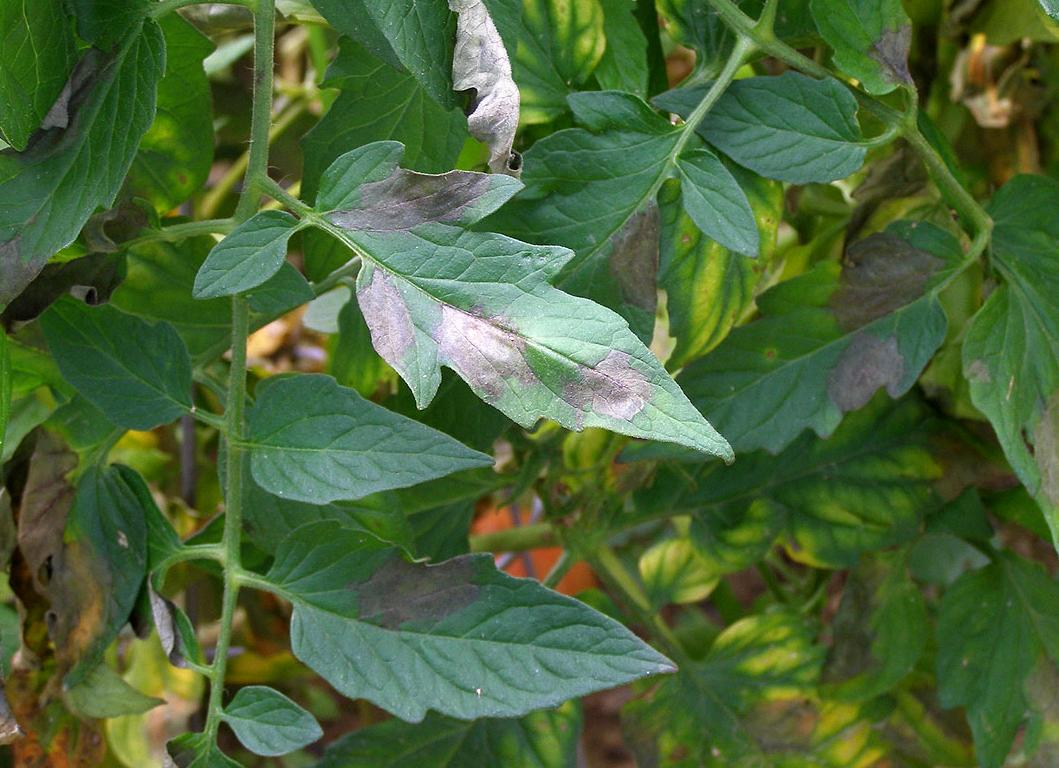Tomato leaf late blight: (297, 165, 729, 447), (253, 539, 689, 728), (654, 207, 965, 451), (0, 0, 173, 398), (951, 159, 1059, 639), (57, 437, 150, 681), (793, 0, 926, 107)
